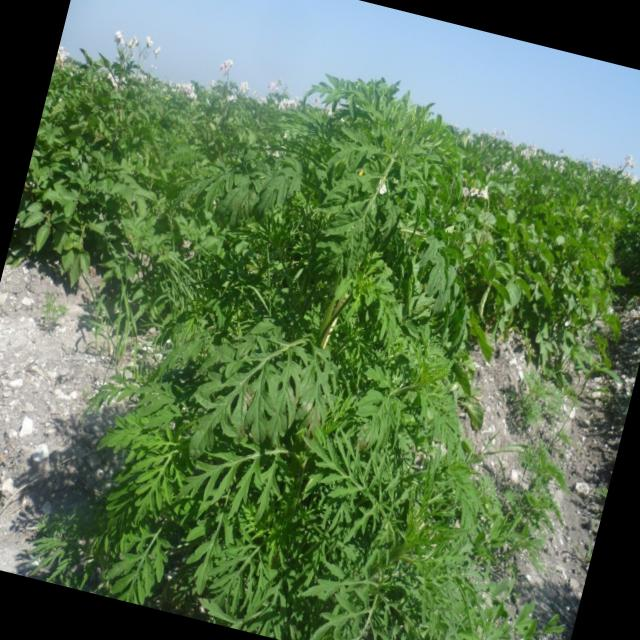ambrosia: (85, 277, 488, 640), (220, 36, 512, 355)
